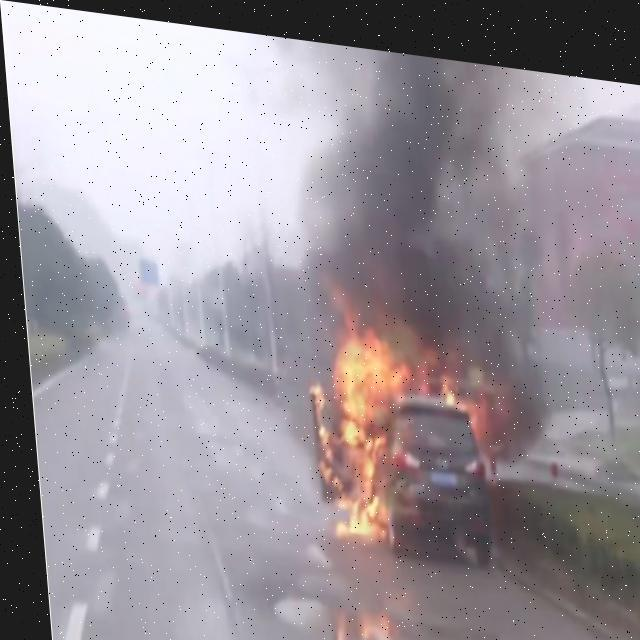Fire: (298, 287, 498, 550)
